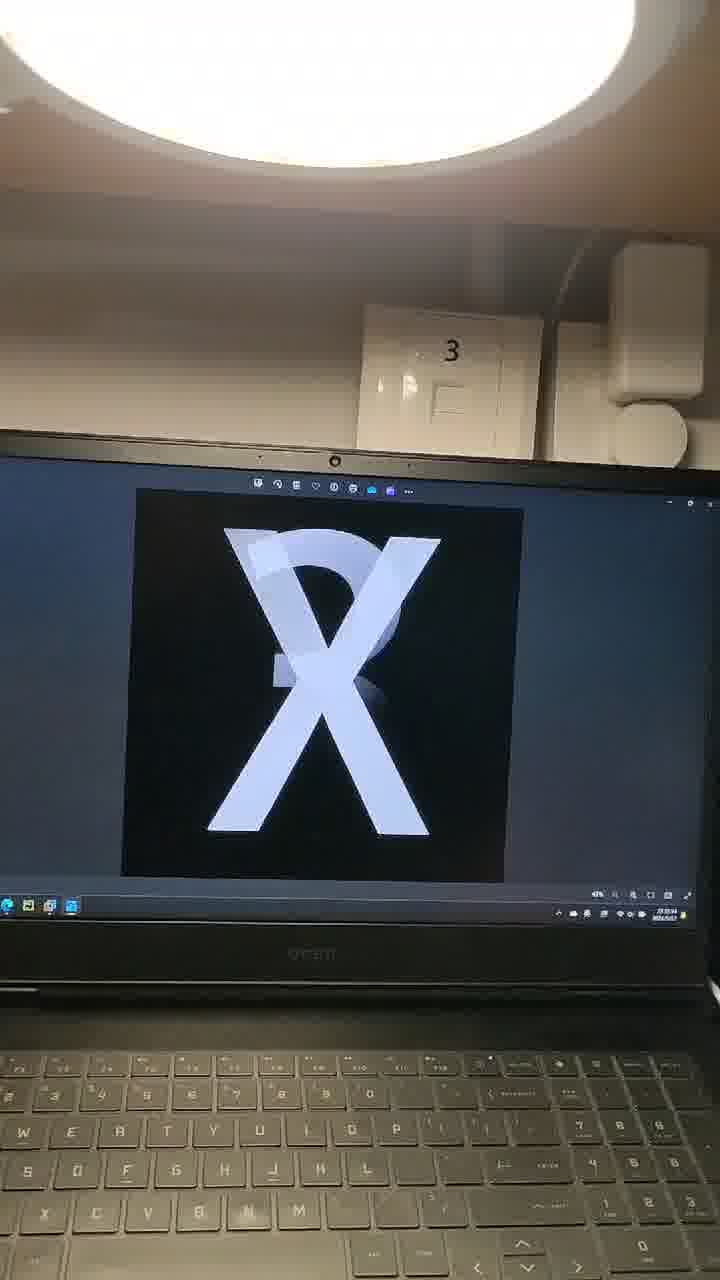X: (191, 479, 616, 933)
